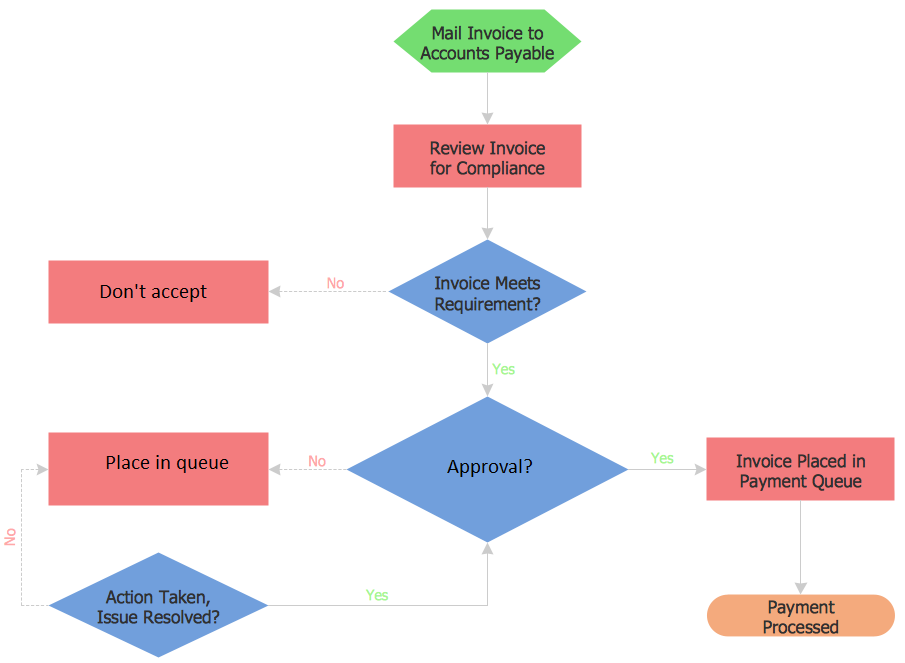arrow: (263, 539, 496, 608), (15, 460, 50, 610), (266, 283, 395, 300), (267, 461, 353, 479), (792, 500, 808, 596), (623, 462, 708, 479), (479, 184, 497, 241), (479, 339, 496, 398), (479, 68, 496, 126)
decision: (346, 395, 630, 545), (45, 551, 267, 660), (386, 237, 589, 346)
process: (46, 429, 273, 507), (45, 257, 273, 326), (391, 5, 585, 77), (390, 121, 586, 192), (702, 434, 899, 504)
terminator: (705, 592, 899, 642)
text: (734, 451, 869, 494), (416, 24, 557, 64), (94, 588, 221, 629), (430, 272, 542, 316), (428, 138, 548, 177), (103, 451, 231, 476), (760, 597, 842, 636), (98, 282, 211, 305), (444, 457, 536, 480), (645, 450, 679, 468), (489, 359, 518, 377), (362, 586, 390, 603), (305, 452, 327, 470), (2, 524, 17, 549), (323, 276, 347, 290)
